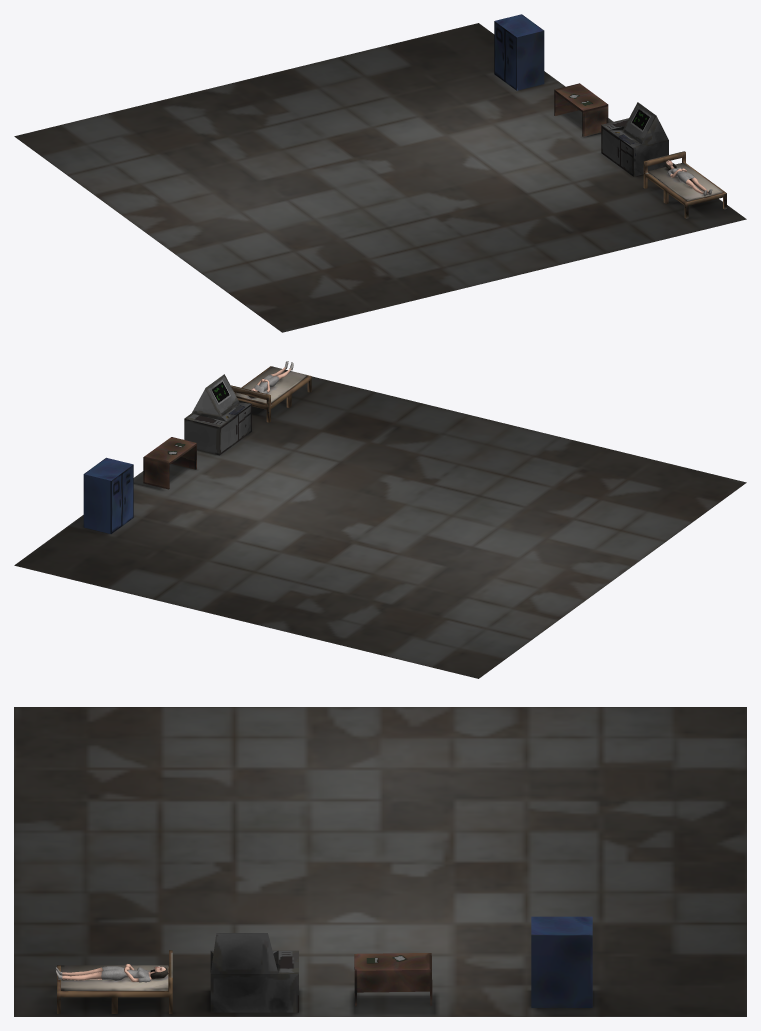
The model's file is Hospital Arena.glb.
3 renders of one model, top to bottom at view 1: azimuth 30°, elevation 25°; view 2: azimuth 150°, elevation 25°; view 3: azimuth 270°, elevation 25°, orthographic. The views are drawn at different scales.
Parts seen in each view (by area): view 1: Floor, Locker, Diagnostics, Bed, Desk, Patient; view 2: Floor, Diagnostics, Locker, Desk, Bed; view 3: Floor, Diagnostics, Locker, Desk, Bed, Patient.
Boxes of the visible parts, <box> form: Floor: <box>14,23,746,332</box>; Locker: <box>494,14,544,90</box>; Diagnostics: <box>601,102,668,176</box>; Bed: <box>643,151,726,218</box>; Desk: <box>554,83,608,136</box>; Patient: <box>665,160,712,196</box>; Floor: <box>14,376,746,678</box>; Diagnostics: <box>184,374,251,455</box>; Locker: <box>83,457,133,533</box>; Desk: <box>143,437,196,489</box>; Bed: <box>230,366,311,422</box>; Floor: <box>14,707,746,1016</box>; Diagnostics: <box>210,933,298,1012</box>; Locker: <box>531,916,592,1007</box>; Desk: <box>354,953,432,1006</box>; Bed: <box>57,950,172,1013</box>; Patient: <box>55,964,168,982</box>.
Bounding box in the file's own units: 14 × 1.54 × 14.
Materials: 6 (6 with a texture image).
